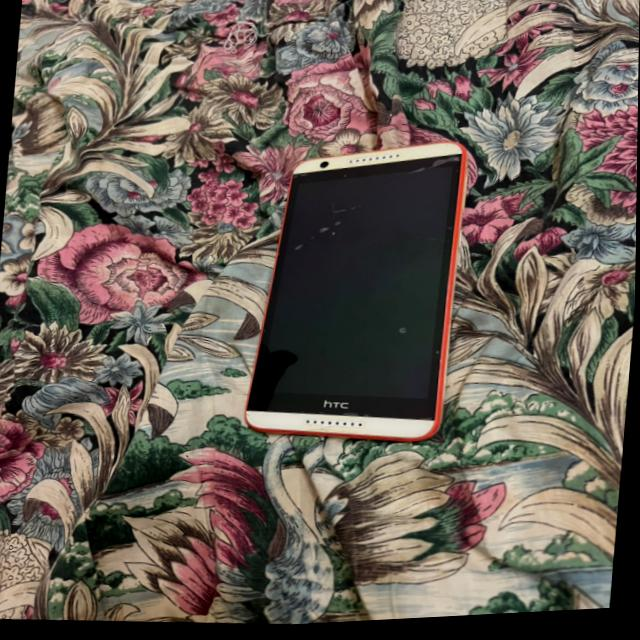Smartphone: (247, 147, 467, 446)
